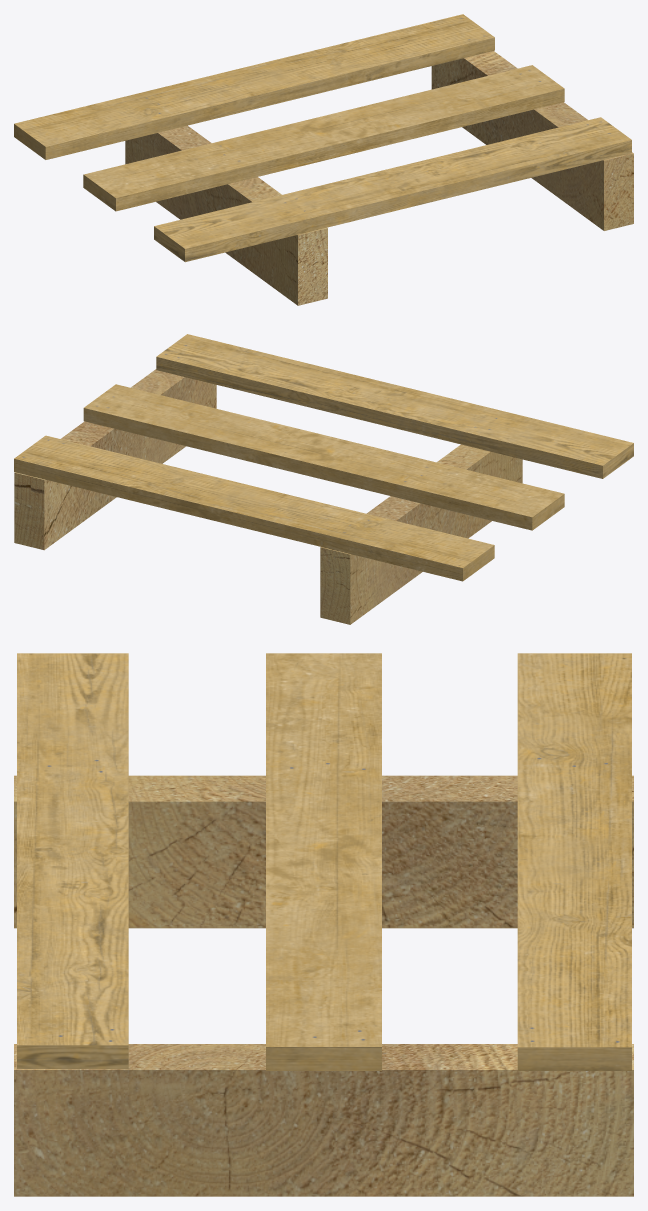
Rendered from expo.obj.
3 views of the same model, one above another, from view 1: azimuth 30°, elevation 25°; view 2: azimuth 150°, elevation 25°; view 3: azimuth 270°, elevation 25° (orthographic). The views are drawn at different scales.
Parts seen in each view (by area): view 1: Exposition_pallet; view 2: Exposition_pallet; view 3: Exposition_pallet.
Part boxes in pixels (x1,y1,x2,y2): Exposition_pallet: (14,14,633,305); Exposition_pallet: (14,334,633,624); Exposition_pallet: (14,653,633,1196).
Bounding box in the file's own units: 60.12 × 10.7 × 40.
Materials: 1 (1 with a texture image).
